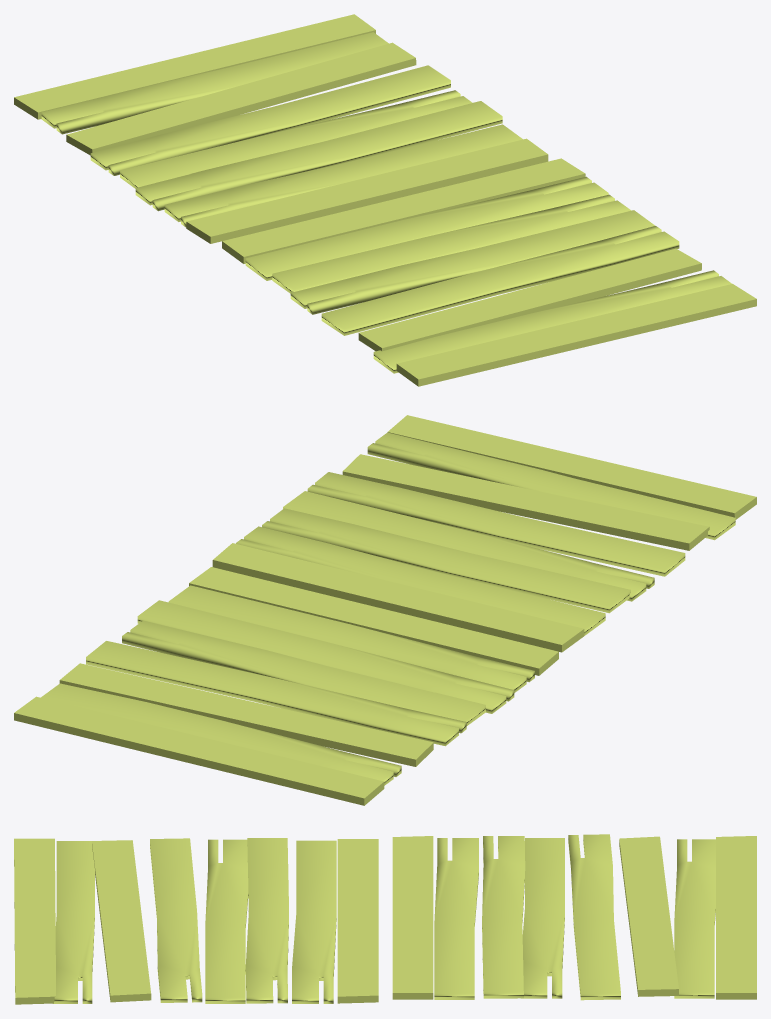
Rendered from Beam_Structure_15C_Lod0.fbx.
3 renders of one model, top to bottom at view 1: azimuth 30°, elevation 25°; view 2: azimuth 150°, elevation 25°; view 3: azimuth 270°, elevation 25°, orthographic. The views are drawn at different scales.
Parts seen in each view (by area): view 1: Beam_Structure_15C_Lod0; view 2: Beam_Structure_15C_Lod0; view 3: Beam_Structure_15C_Lod0.
Part boxes in pixels (bbox=[...]): Beam_Structure_15C_Lod0: bbox=[14, 14, 756, 386]; Beam_Structure_15C_Lod0: bbox=[14, 415, 756, 805]; Beam_Structure_15C_Lod0: bbox=[14, 834, 756, 1004].
Bounding box in the file's own units: 307 × 8.92 × 595.
